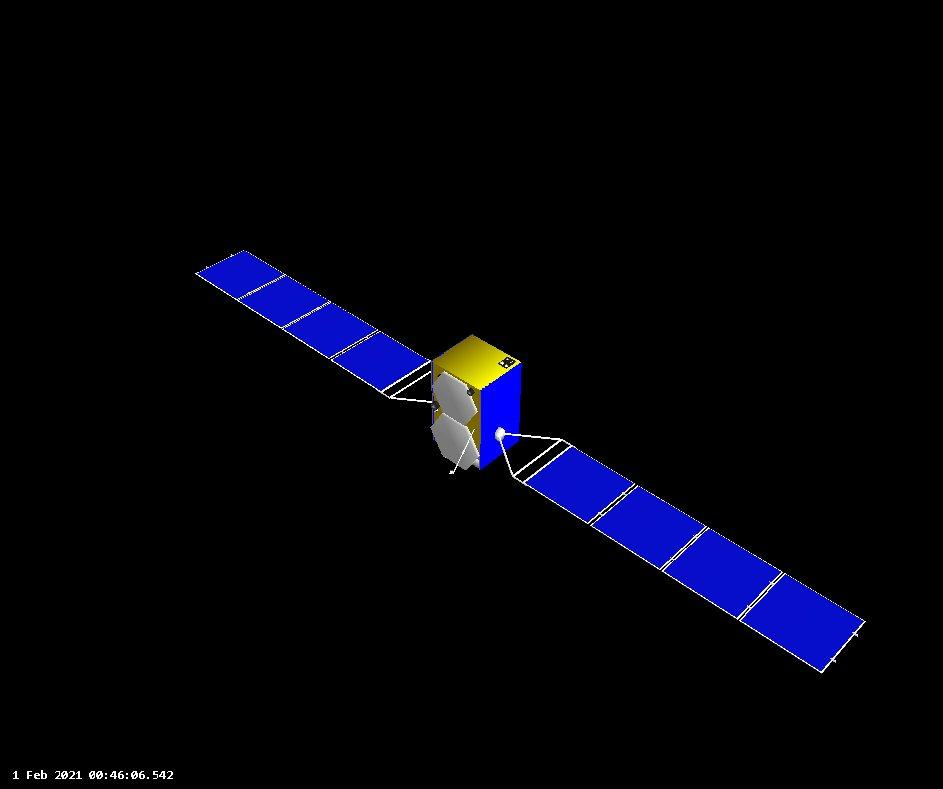antenna: (429, 409, 479, 478), (429, 367, 480, 428)
body: (429, 329, 523, 471)
solar: (494, 426, 867, 677), (192, 244, 442, 411)
